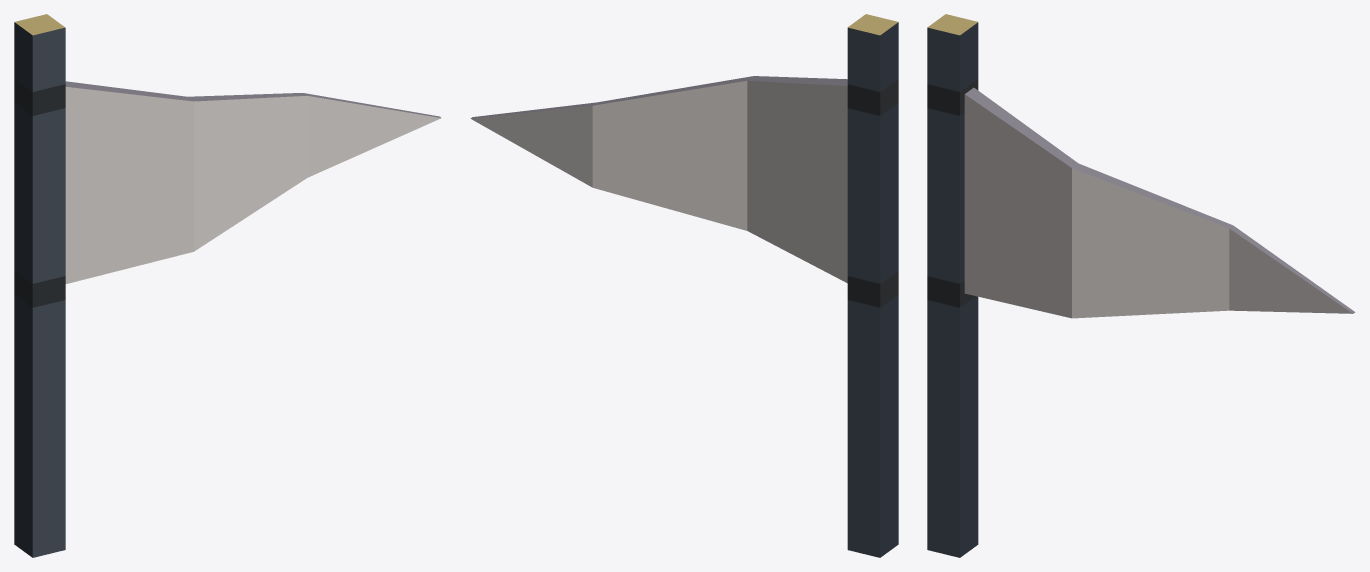
File: TB_D_Prop_Flag_E.FBX
3 views of the same model, side by side, from view 1: azimuth 30°, elevation 25°; view 2: azimuth 150°, elevation 25°; view 3: azimuth 330°, elevation 25° (orthographic).
Visible parts, largest first — view 1: TB_D_Prop_Flag_E; view 2: TB_D_Prop_Flag_E; view 3: TB_D_Prop_Flag_E.
Part boxes in pixels (x1,y1,x2,y2): TB_D_Prop_Flag_E: (14,14,441,557); TB_D_Prop_Flag_E: (470,14,898,557); TB_D_Prop_Flag_E: (927,14,1355,557).
Bounding box in the file's own units: 2.19 × 2.62 × 0.2422.
